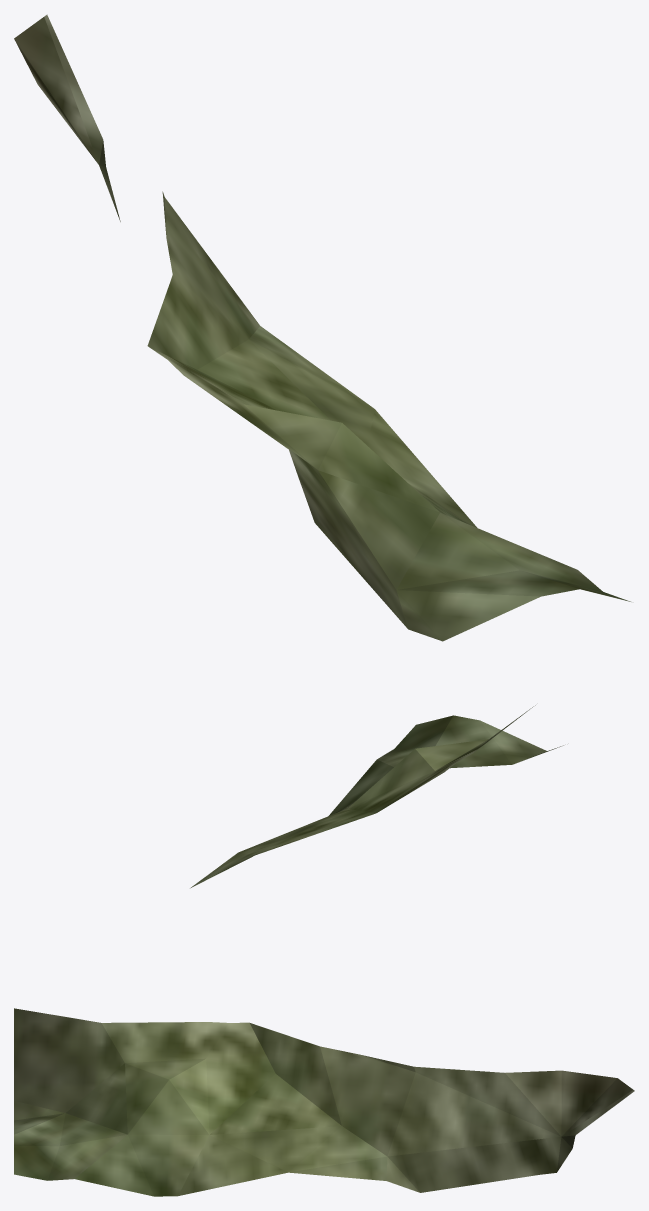
The picture shows the model from 3 angles, top to bottom: view 1: azimuth 30°, elevation 25°; view 2: azimuth 150°, elevation 25°; view 3: azimuth 270°, elevation 25°; orthographic projection. The views are drawn at different scales.
Size of the model in its own units: 0.4199 by 0.2508 by 1.33.
Materials: 1 (1 with a texture image).
